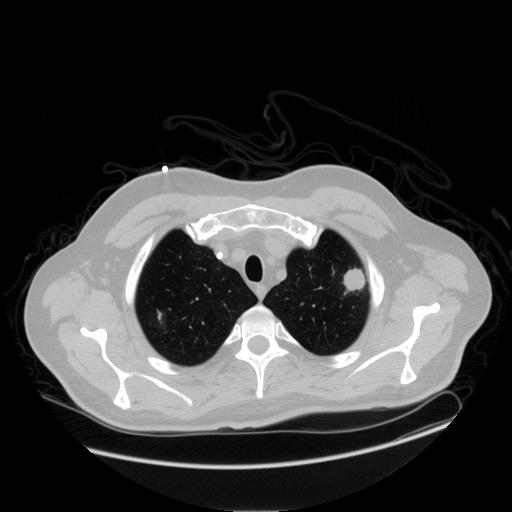nodule: (340, 265, 369, 294)
